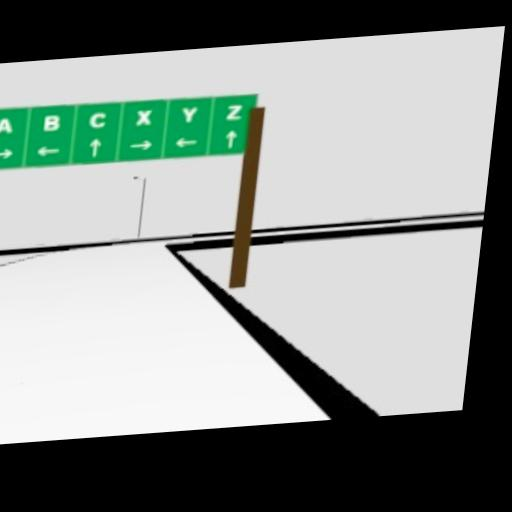A: (0, 115, 14, 134)
B: (42, 114, 60, 131)
C: (88, 110, 108, 127)
Left: (36, 144, 60, 157), (173, 137, 199, 147)
Right: (128, 138, 152, 151), (0, 147, 16, 160)
Straight: (87, 137, 101, 158), (224, 128, 238, 147)
X: (134, 109, 152, 126)
Y: (181, 105, 199, 122)
Z: (225, 104, 242, 119)
